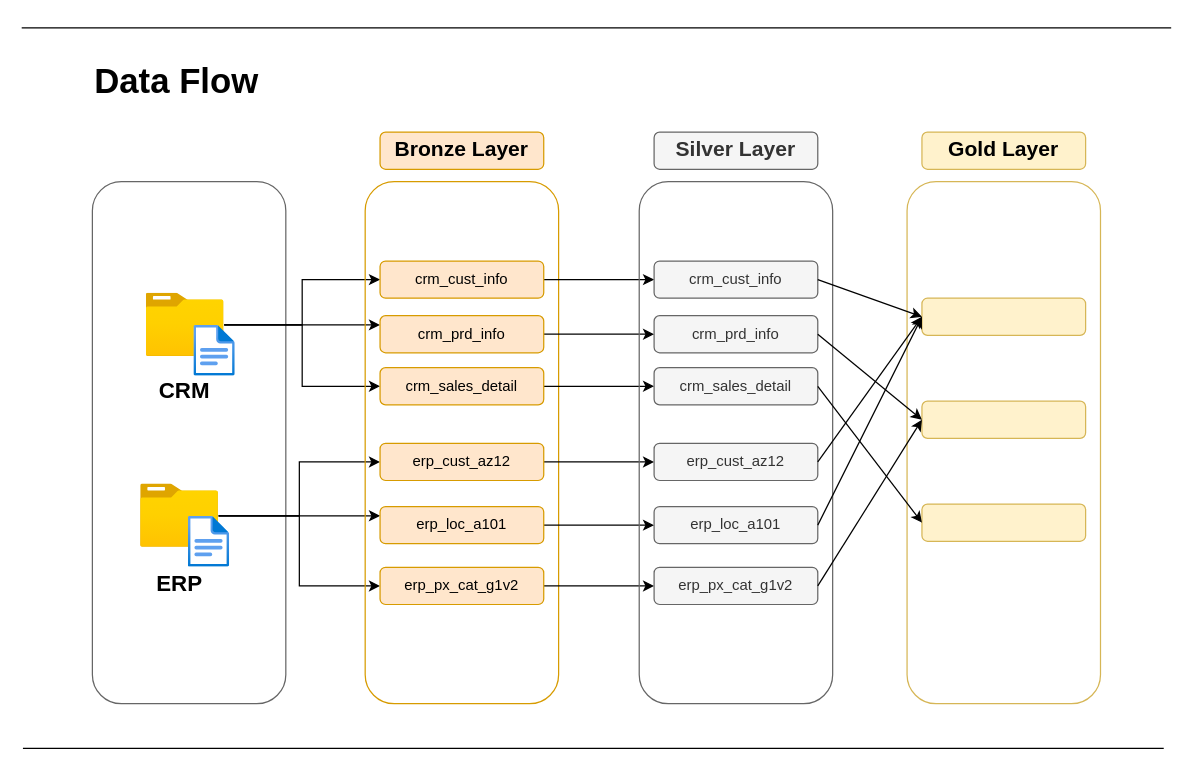
This 1193x776 diagram has some shape labels left out. Each missing label, with the box of its shape:
dim_customer: (921, 297, 1086, 335)
dim_product: (921, 400, 1086, 438)
fact_sales: (921, 503, 1086, 541)
